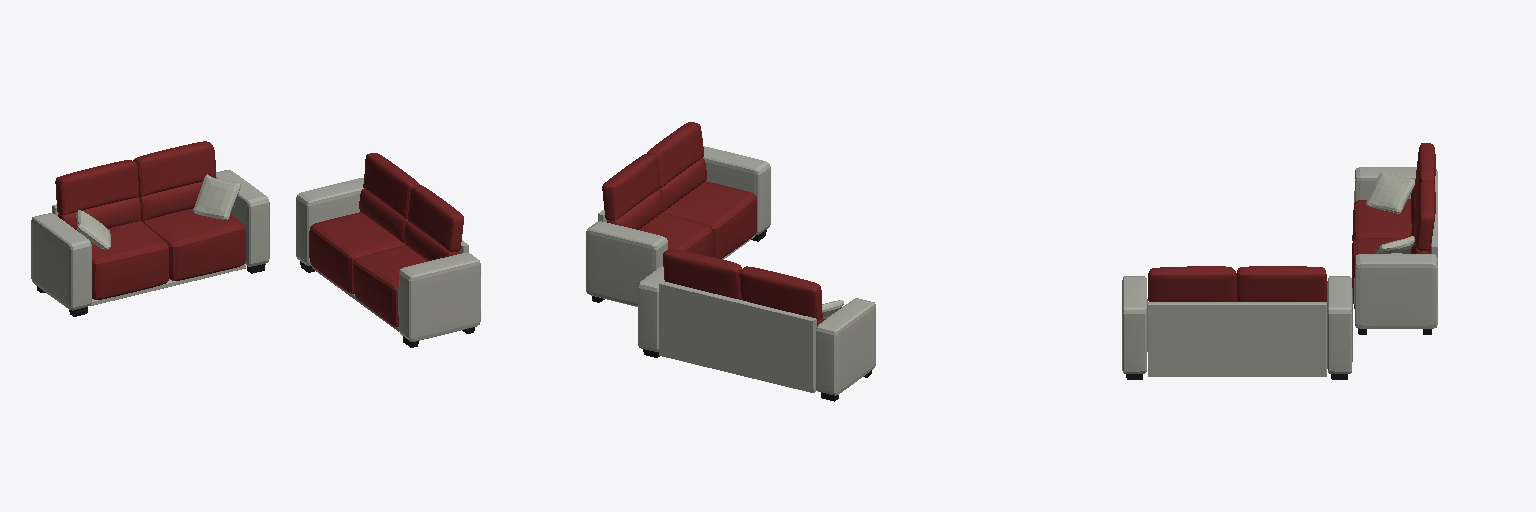
Rendered from simple_sofa.obj.
3 renders of one model, left to right at view 1: azimuth 30°, elevation 25°; view 2: azimuth 150°, elevation 25°; view 3: azimuth 270°, elevation 25°, orthographic.
Visible parts, largest first — view 1: coj_grandes_Cube.003, coj_grandes.001_Cube.012, base_sofa.001_Cube.011, base_sofa_Cube.002, cojin2_Cube.005, cojin1_Cube.004; view 2: base_sofa_Cube.002, coj_grandes.001_Cube.012, base_sofa.001_Cube.011, coj_grandes_Cube.003; view 3: base_sofa.001_Cube.011, base_sofa_Cube.002, coj_grandes.001_Cube.012, coj_grandes_Cube.003, cojin1_Cube.004.
Part boxes in pixels (x1,y1,x2,y2): coj_grandes_Cube.003: (55,141,245,299); coj_grandes.001_Cube.012: (309,153,463,326); base_sofa.001_Cube.011: (296,178,480,341); base_sofa_Cube.002: (31,170,269,310); cojin2_Cube.005: (193,174,240,220); cojin1_Cube.004: (76,210,110,249); base_sofa_Cube.002: (638,265,875,395); coj_grandes.001_Cube.012: (602,122,756,258); base_sofa.001_Cube.011: (586,146,770,306); coj_grandes_Cube.003: (663,249,825,325); base_sofa.001_Cube.011: (1122,276,1352,376); base_sofa_Cube.002: (1354,167,1437,328); coj_grandes.001_Cube.012: (1148,266,1326,301); coj_grandes_Cube.003: (1352,143,1435,308); cojin1_Cube.004: (1366,172,1414,213).
Size of the model in its own units: 3.24 by 1.16 by 3.01.